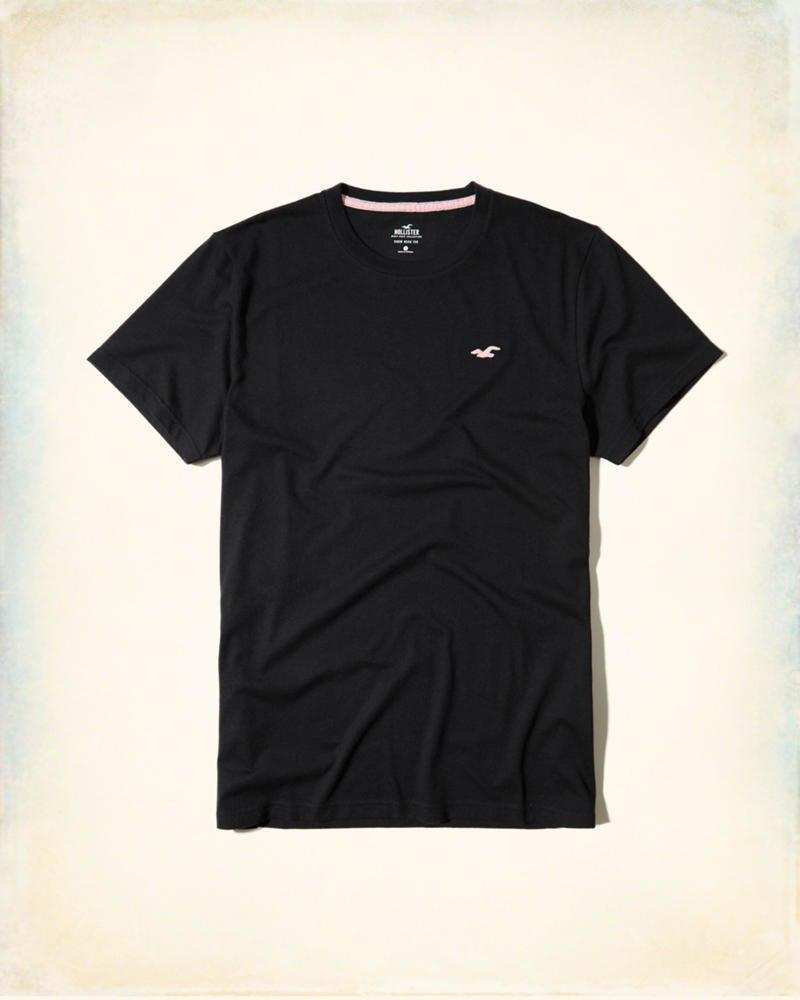teeshirt: (80, 159, 747, 896)
